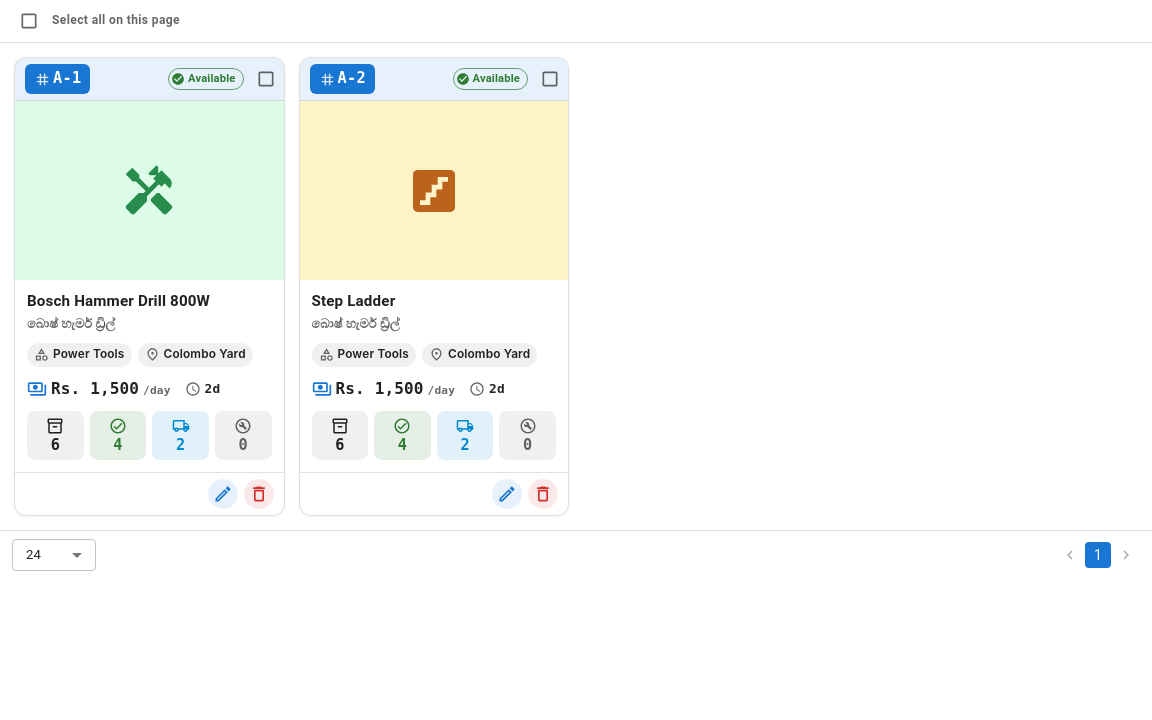
Test: EquipmentCardGrid › without edit permission the photo opens view-only
Click the button named "View photo: Step Ladder" at (434, 190), box [300,101,568,280]
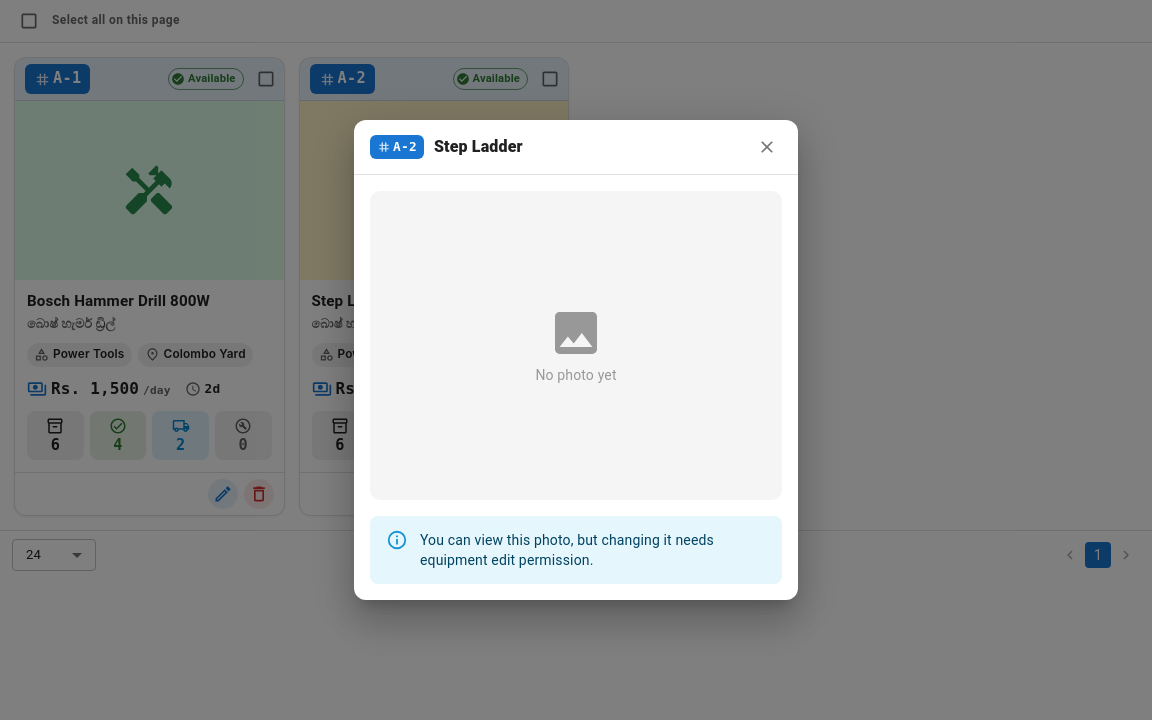
Now the text "needs equipment edit permission" is shown, box [420,532,714,568]
